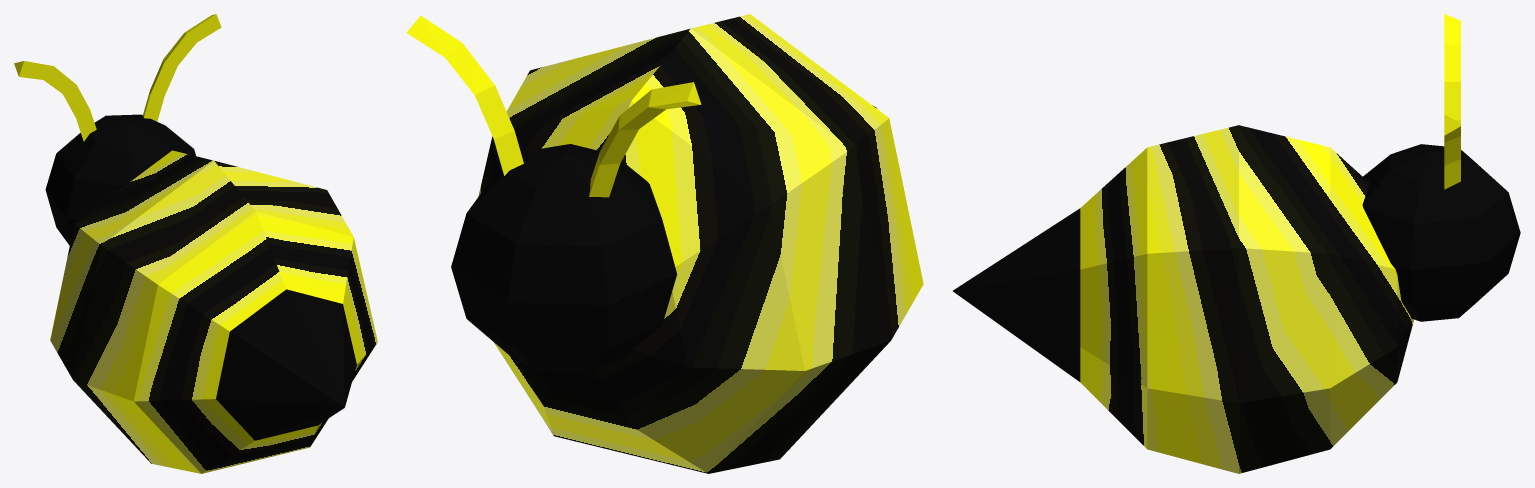
Rendered from bee.obj.
The picture shows the model from 3 angles, left to right: view 1: azimuth 30°, elevation 25°; view 2: azimuth 150°, elevation 25°; view 3: azimuth 270°, elevation 25°; orthographic projection. The views are drawn at different scales.
Visible parts, largest first — view 1: Sphere.001; view 2: Sphere.001; view 3: Sphere.001.
Boxes of the visible parts, x1=… form: Sphere.001: x1=14, y1=14, x2=377, y2=473; Sphere.001: x1=406, y1=14, x2=923, y2=473; Sphere.001: x1=953, y1=14, x2=1520, y2=473.
Bounding box in the file's own units: 1.95 × 2.26 × 3.11.
